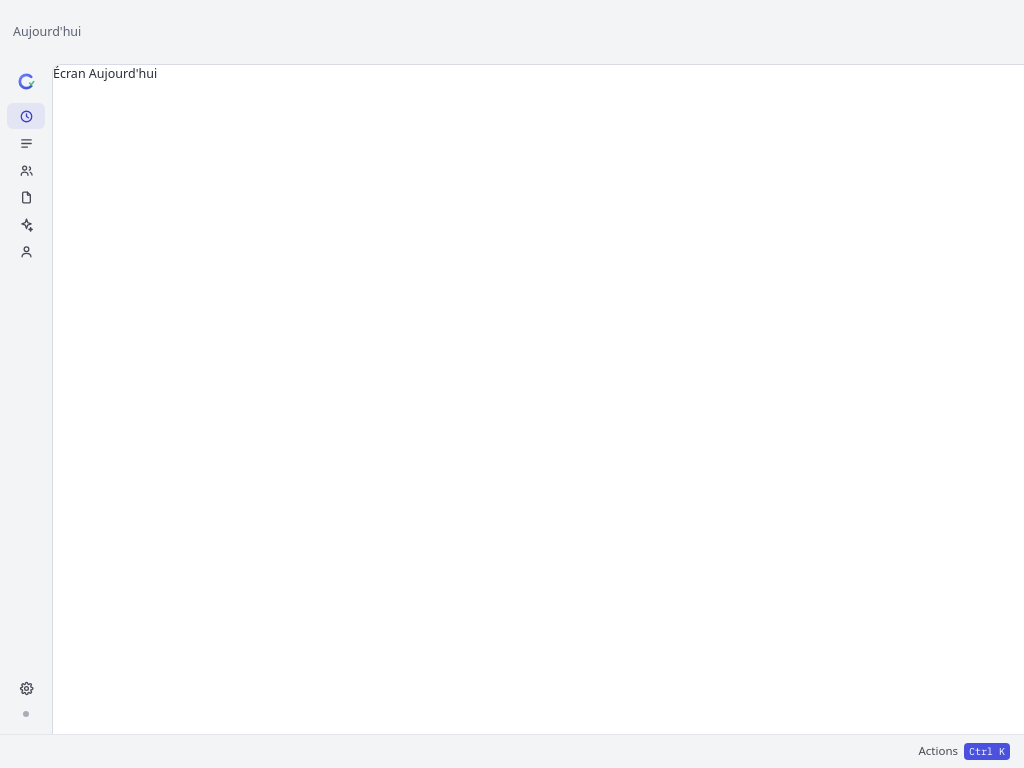
Scenario: coque applicative › ouvre la palette avec Ctrl/Cmd+K et exécute une commande de navigation
Press k
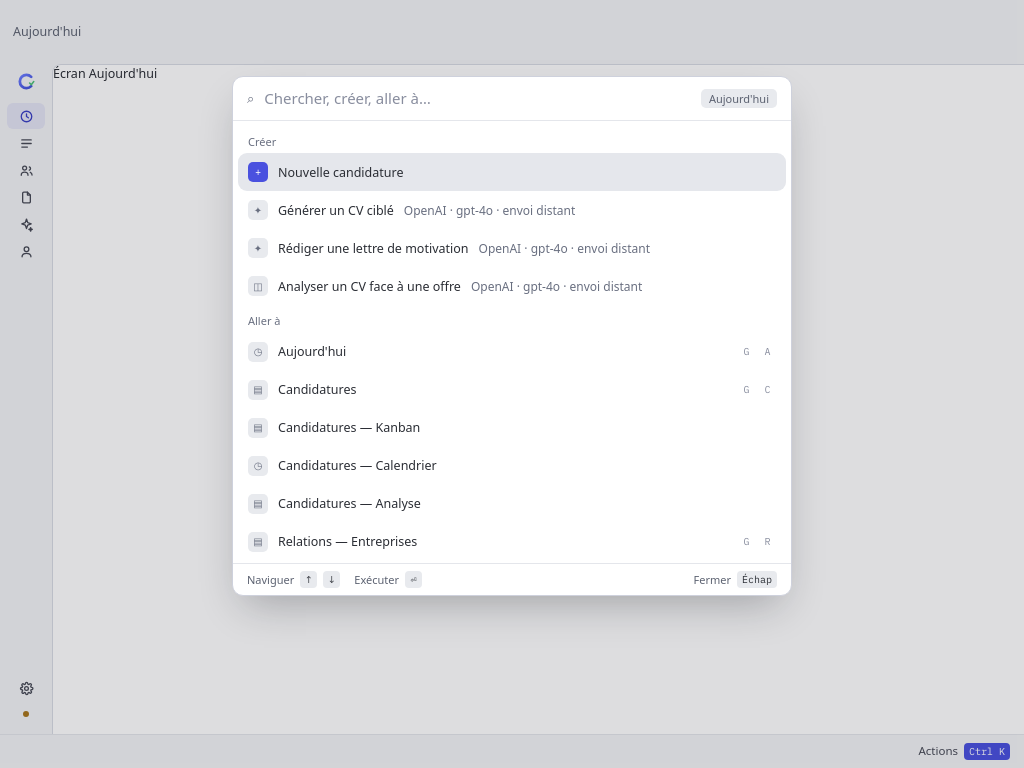
Type "profil" into the dropdown at (478, 99), box x1=264 y1=89 x2=691 y2=108
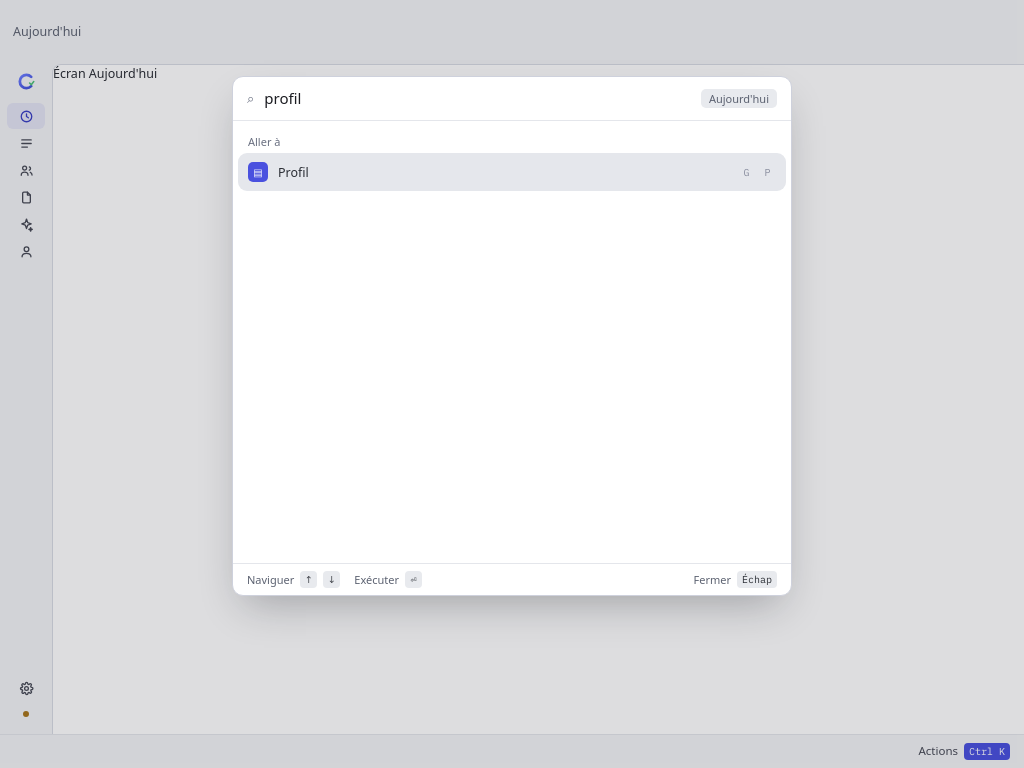
Press Enter
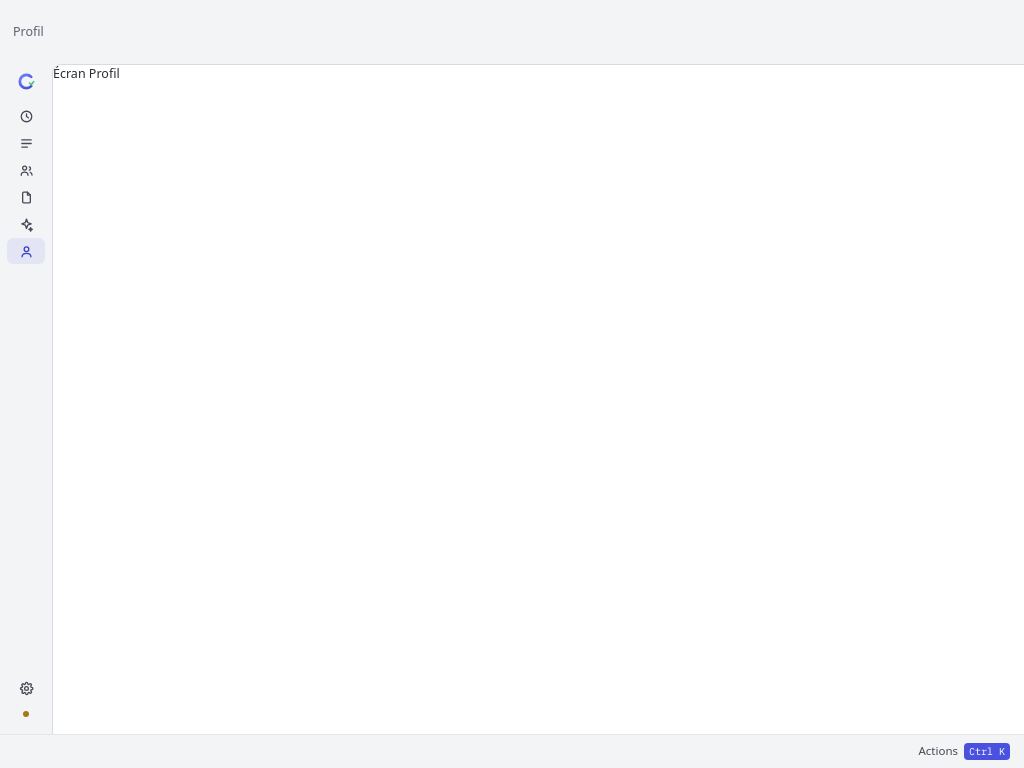
Now the list "Palette de commandes" is gone
